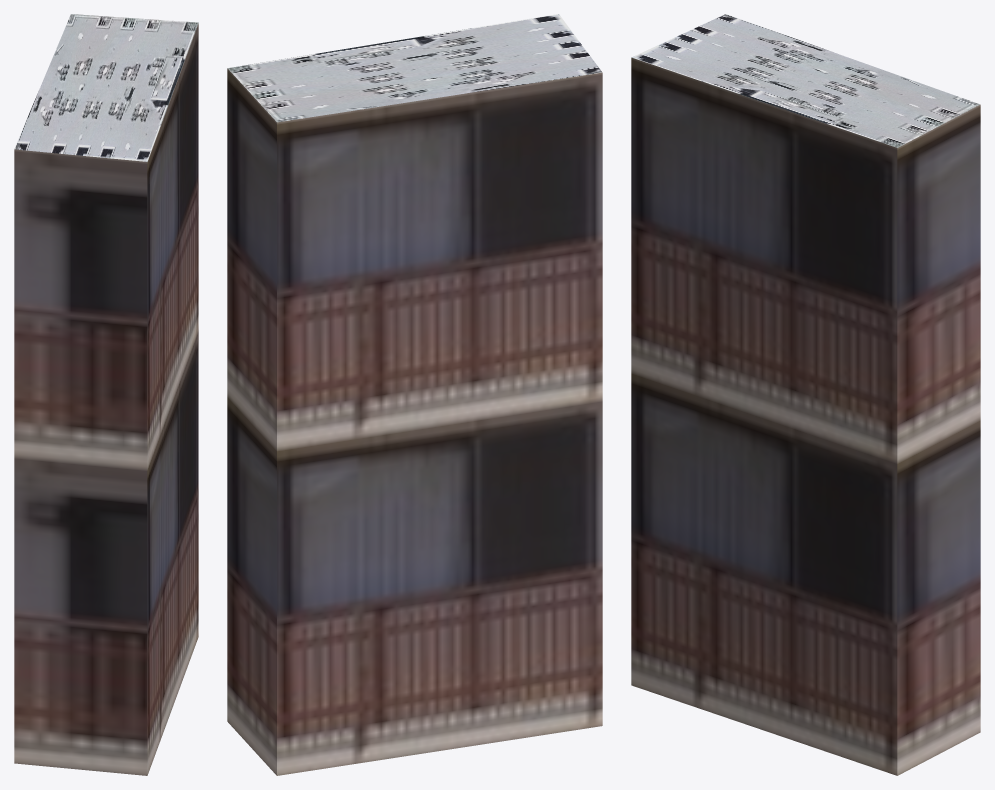
File: ResTex__2956.fbx
3 views of the same model, side by side, from view 1: azimuth 30°, elevation 25°; view 2: azimuth 150°, elevation 25°; view 3: azimuth 270°, elevation 25° (orthographic). The views are drawn at different scales.
Visible parts, largest first — view 1: CityEngineMaterial_6_m, CityEngineMaterial_4_m; view 2: CityEngineMaterial_6_m, CityEngineMaterial_4_m; view 3: CityEngineMaterial_6_m, CityEngineMaterial_4_m.
Part boxes in pixels (bbox=[...]): CityEngineMaterial_6_m: bbox=[14, 23, 198, 775]; CityEngineMaterial_4_m: bbox=[14, 14, 198, 161]; CityEngineMaterial_6_m: bbox=[227, 68, 602, 775]; CityEngineMaterial_4_m: bbox=[227, 14, 602, 122]; CityEngineMaterial_6_m: bbox=[631, 57, 980, 775]; CityEngineMaterial_4_m: bbox=[631, 14, 979, 147].
Size of the model in its own units: 2.75 by 6 by 3.02.
Materials: 2 (2 with a texture image).
